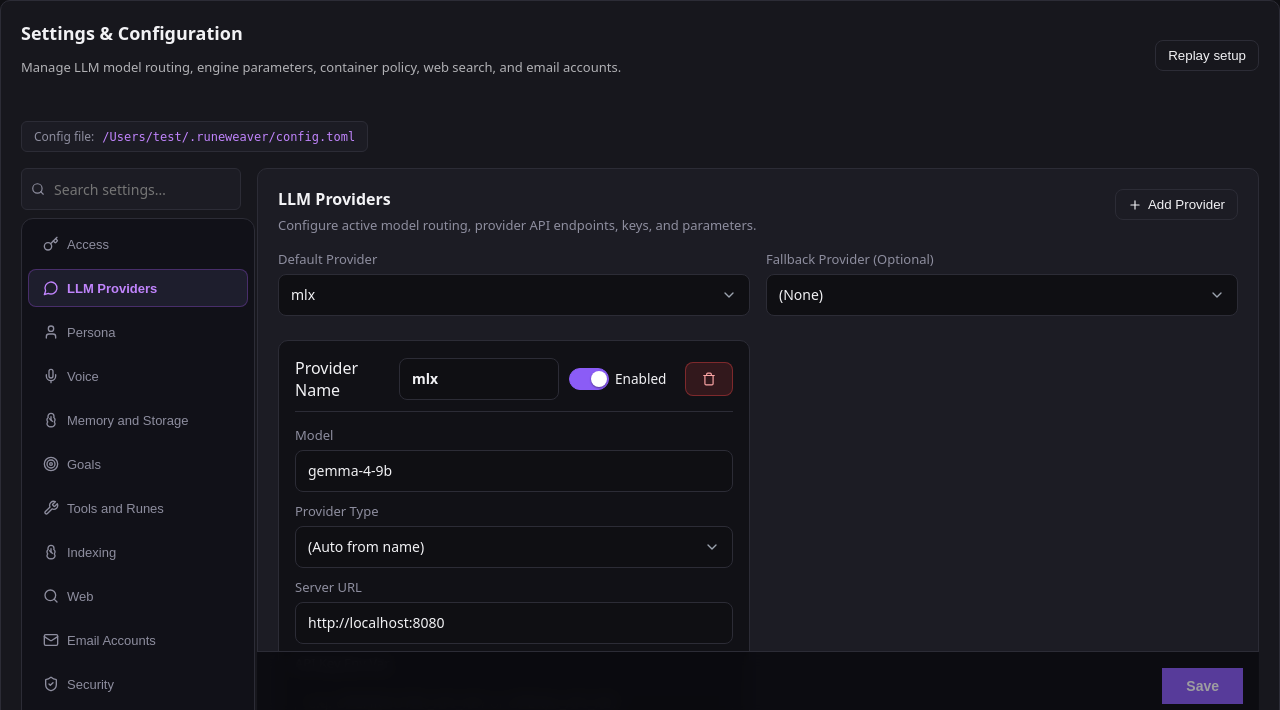
Test case: SettingsManager search › reads unknown as an enabled Start toggle
This screenshot has width=1280, height=710.
Expected: the field showing "gemma-4-9b" is shown, left=295, top=450, right=733, bottom=492
Step 1. Click the tab "Web" → click(138, 596), box left=28, top=577, right=248, bottom=615
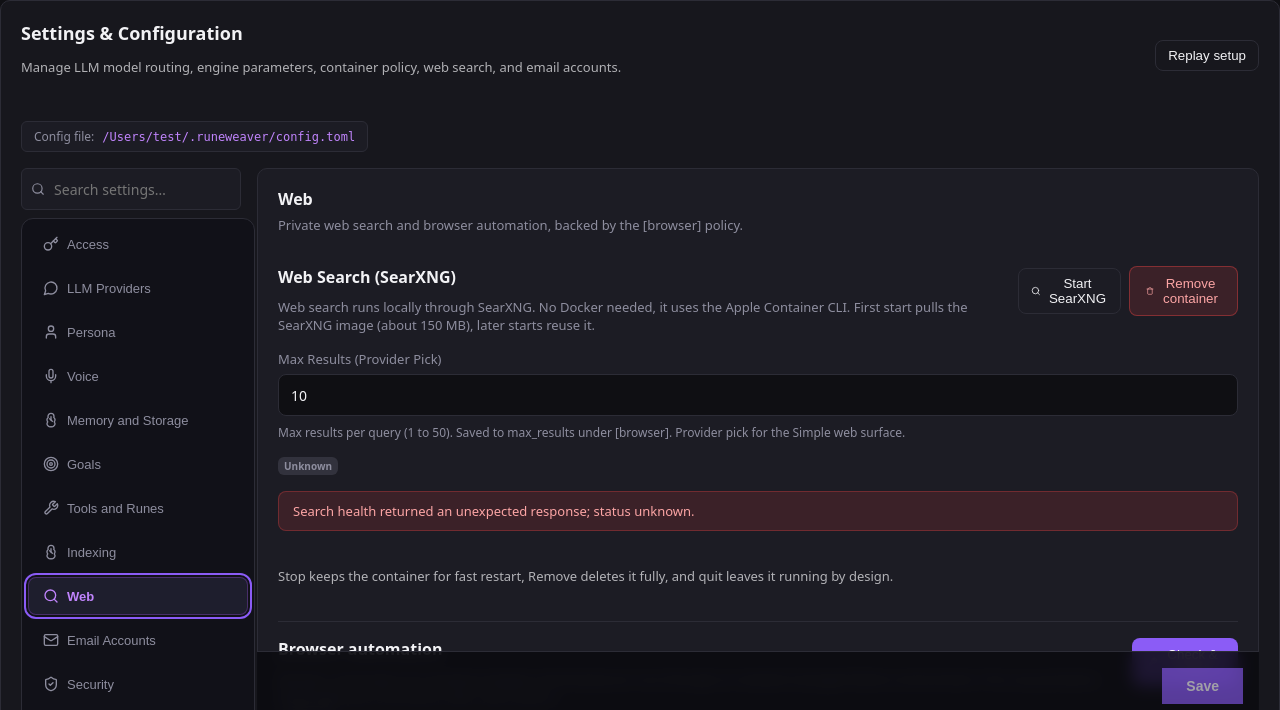
Result: the button "Start SearXNG" is shown at left=1018, top=268, right=1121, bottom=314
Result: the button "Start SearXNG" is enabled at left=1018, top=268, right=1121, bottom=314
